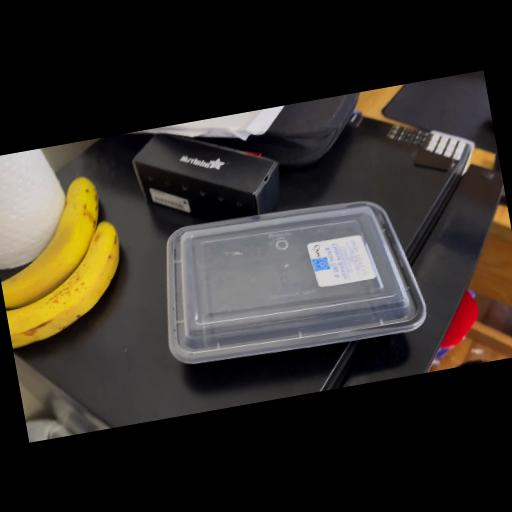rigid_plastic_container: (154, 188, 426, 370)
